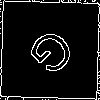G: (25, 25, 85, 86)
